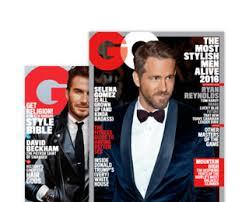Printing industry: (14, 19, 238, 202)
